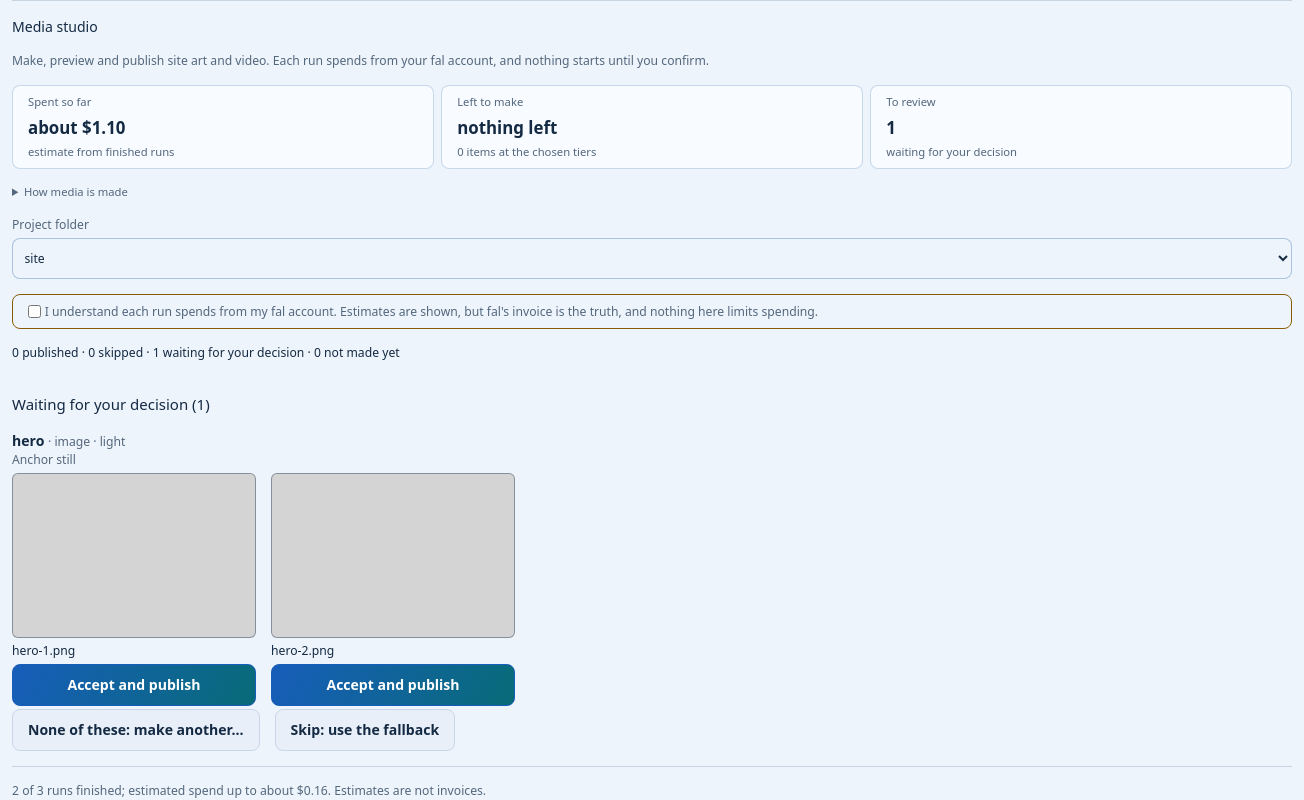
it: accepts a candidate in one click: it is chosen and published, and a refusal is explained beside the slot
Click the button with aria-label "Accept hero-2.png": (393, 685) [271, 664, 515, 706]
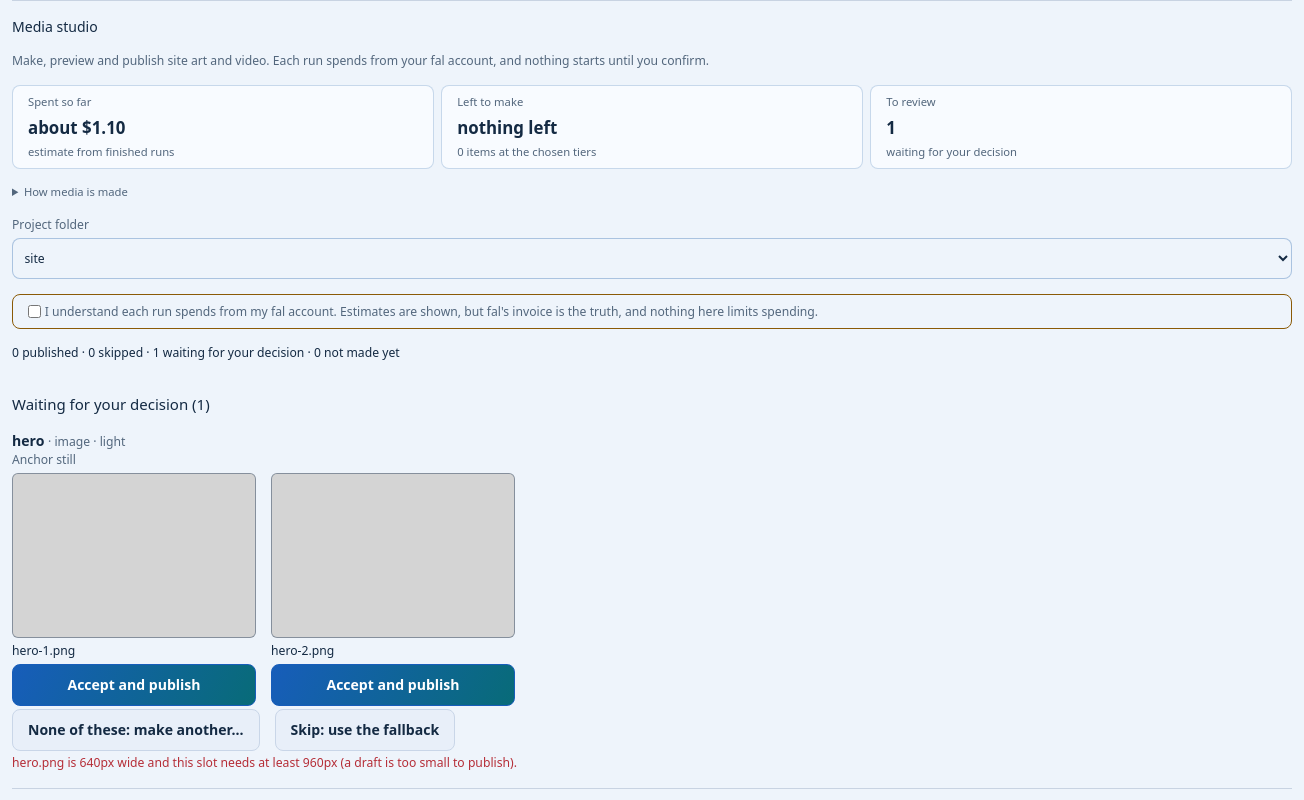
Expected: the 2nd message shows "too small to publish", [12, 754, 517, 771]
Click the button with aria-label "Accept hero-2.png": (393, 685) [271, 664, 515, 706]
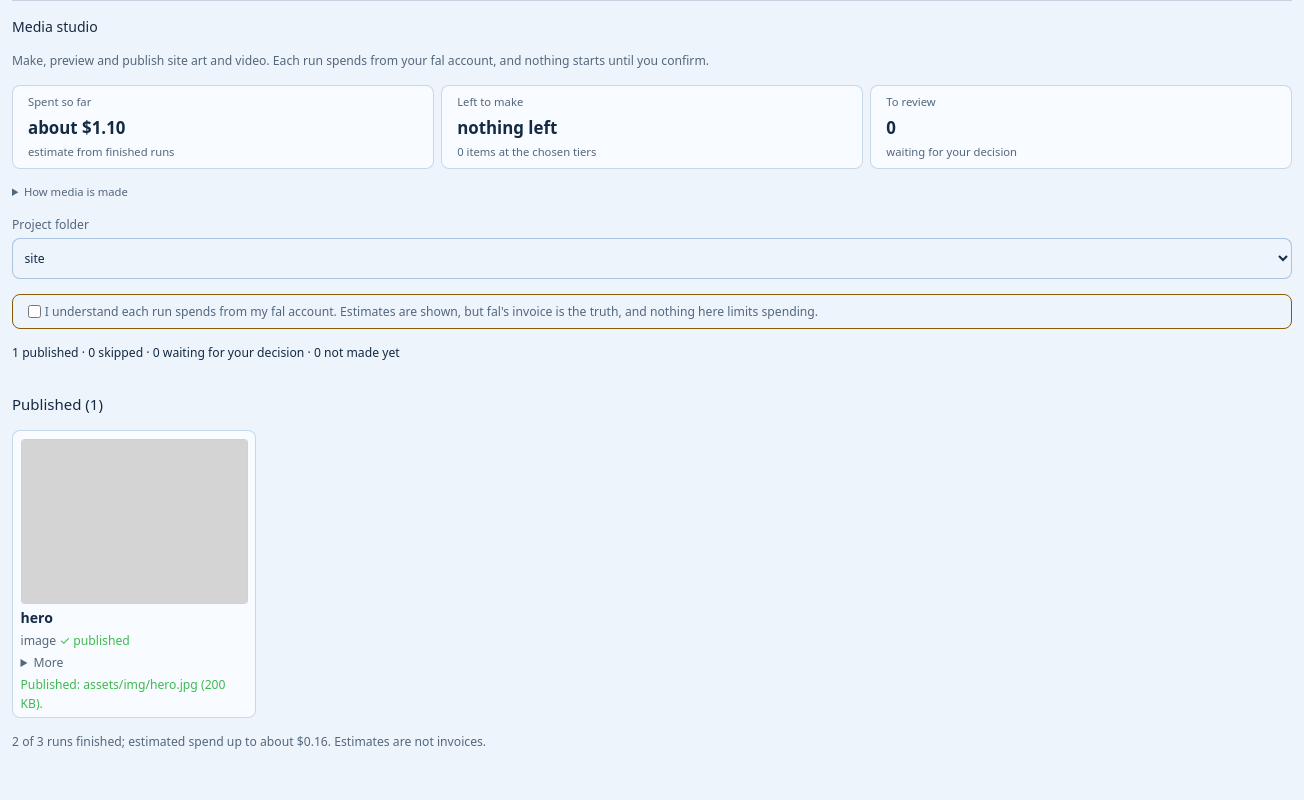
Expected: the element that starts with "hero" shows "✓ published", [59, 632, 130, 649]
Expected: the text "Published: assets/img/hero.jpg (200 KB)" is shown, [20, 676, 226, 712]
